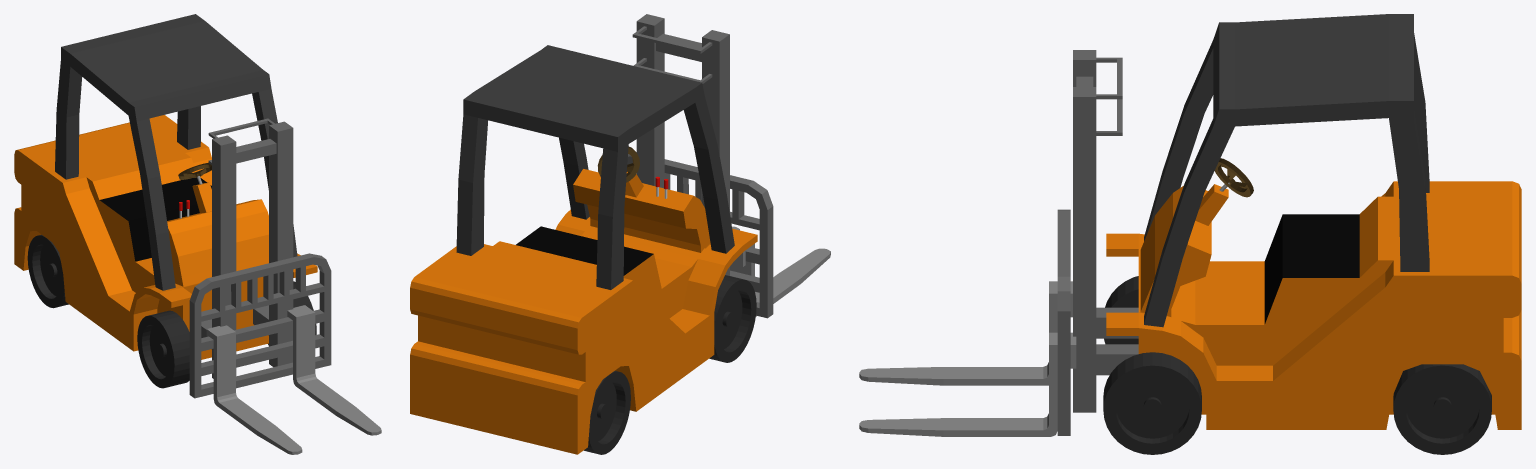
File: Forklift.fbx
3 renders of one model, left to right at view 1: azimuth 30°, elevation 25°; view 2: azimuth 150°, elevation 25°; view 3: azimuth 270°, elevation 25°, orthographic. The views are drawn at different scales.
Parts seen in each view (by area): view 1: body, Roof, Lift, Holder, Cube, BackWheel.001, body.001, BackWheel, stearingwheel; view 2: body, Roof, Lift, Holder, BackWheel.001, BackWheel, body.001, Cube; view 3: body, Roof, Lift, BackWheel.001, Cube, BackWheel, body.001, Holder, stearingwheel.
Boxes of the visible parts, bbox=[...] form: body: bbox=[14, 115, 317, 359]; Roof: bbox=[55, 14, 297, 290]; Lift: bbox=[201, 118, 293, 378]; Holder: bbox=[189, 253, 331, 398]; Cube: bbox=[206, 305, 381, 454]; BackWheel.001: bbox=[137, 281, 316, 388]; body.001: bbox=[100, 178, 211, 261]; BackWheel: bbox=[27, 234, 68, 308]; stearingwheel: bbox=[178, 162, 211, 184]; body: bbox=[410, 169, 757, 454]; Roof: bbox=[456, 45, 734, 289]; Lift: bbox=[632, 14, 729, 275]; Holder: bbox=[627, 154, 773, 318]; BackWheel.001: bbox=[709, 275, 756, 362]; BackWheel: bbox=[584, 371, 630, 454]; body.001: bbox=[516, 226, 653, 275]; Cube: bbox=[730, 226, 830, 316]; body: bbox=[1106, 181, 1521, 429]; Roof: bbox=[1144, 14, 1429, 327]; Lift: bbox=[1073, 50, 1138, 412]; BackWheel.001: bbox=[1103, 276, 1201, 454]; Cube: bbox=[859, 281, 1076, 436]; BackWheel: bbox=[1393, 364, 1491, 454]; body.001: bbox=[1264, 214, 1359, 324]; Holder: bbox=[1057, 209, 1070, 435]; stearingwheel: bbox=[1214, 158, 1253, 197].
Size of the model in its own units: 154 by 268 by 457.
